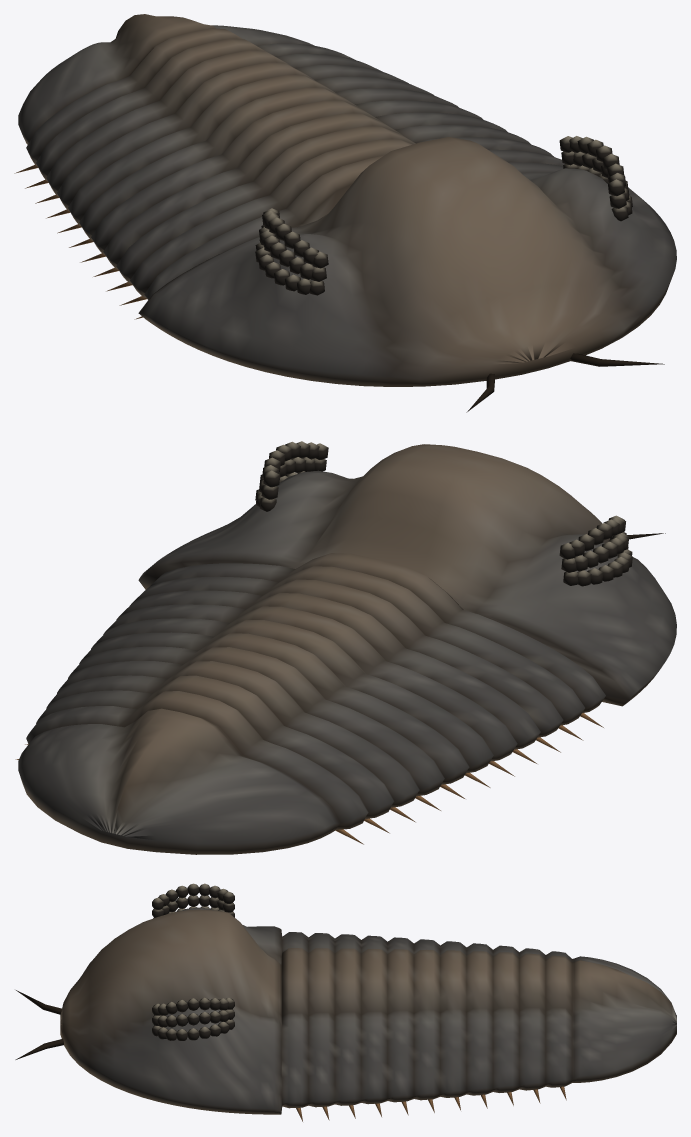
File: PhacopsLatifrons.fbx
The picture shows the model from 3 angles, top to bottom: view 1: azimuth 30°, elevation 25°; view 2: azimuth 150°, elevation 25°; view 3: azimuth 270°, elevation 25°; orthographic projection. The views are drawn at different scales.
Parts seen in each view (by area): view 1: PhacopsLatifrons; view 2: PhacopsLatifrons; view 3: PhacopsLatifrons.
Boxes of the visible parts, box(x1,y1,x2,y2) form: PhacopsLatifrons: box(14, 14, 676, 412); PhacopsLatifrons: box(15, 441, 676, 854); PhacopsLatifrons: box(15, 883, 676, 1121).
Bounding box in the file's own units: 1.08 × 0.3353 × 1.72.
